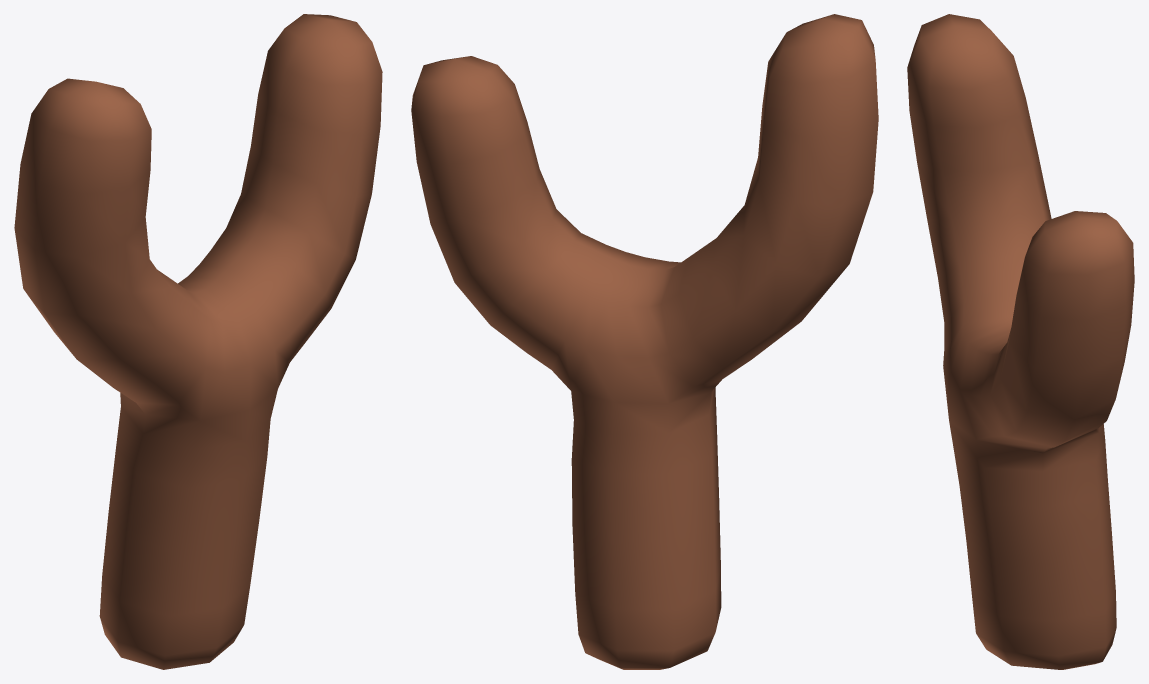
Rendered from Shrub_Btm_B_01.fbx.
3 views of the same model, side by side, from view 1: azimuth 30°, elevation 25°; view 2: azimuth 150°, elevation 25°; view 3: azimuth 270°, elevation 25° (orthographic). The views are drawn at different scales.
Parts seen in each view (by area): view 1: Shrub_Btm_B_01_LOD0; view 2: Shrub_Btm_B_01_LOD0; view 3: Shrub_Btm_B_01_LOD0.
Boxes of the visible parts, <box> form: Shrub_Btm_B_01_LOD0: <box>14,14,382,669</box>; Shrub_Btm_B_01_LOD0: <box>411,14,878,669</box>; Shrub_Btm_B_01_LOD0: <box>907,14,1134,669</box>.
Size of what is drawn, in the model's own units: 242 by 366 by 132.
